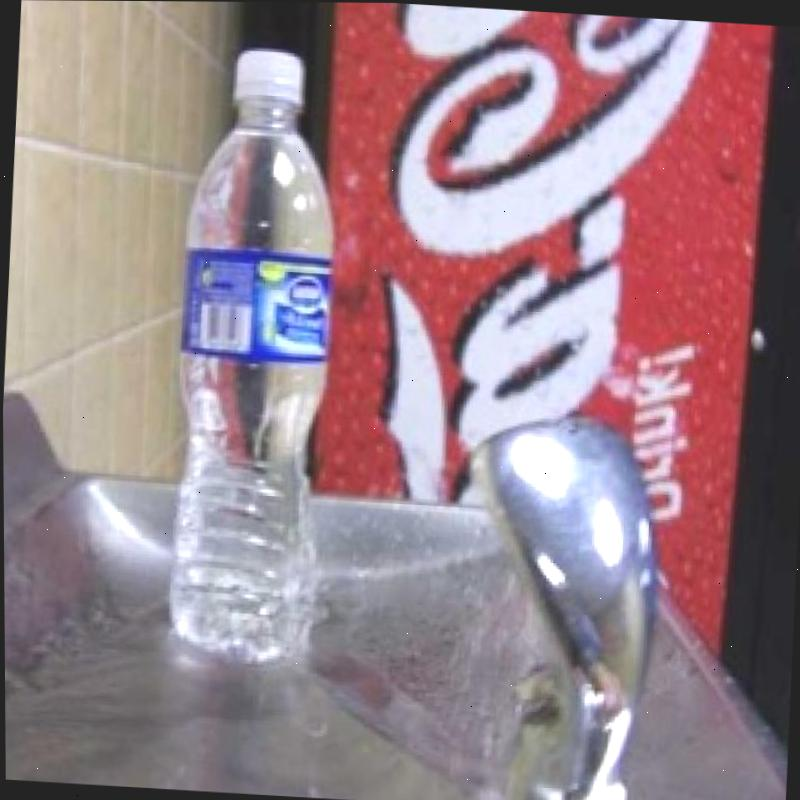botella: (162, 43, 347, 663)
